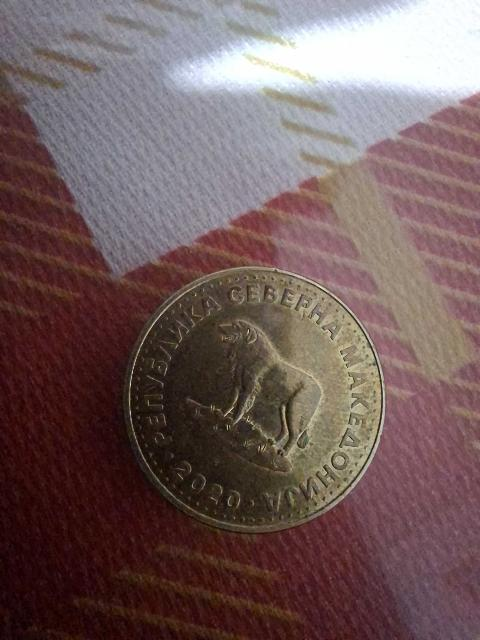coin: (125, 267, 384, 532)
